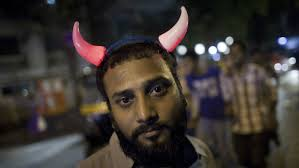Indian_Male: (107, 56, 192, 155)
